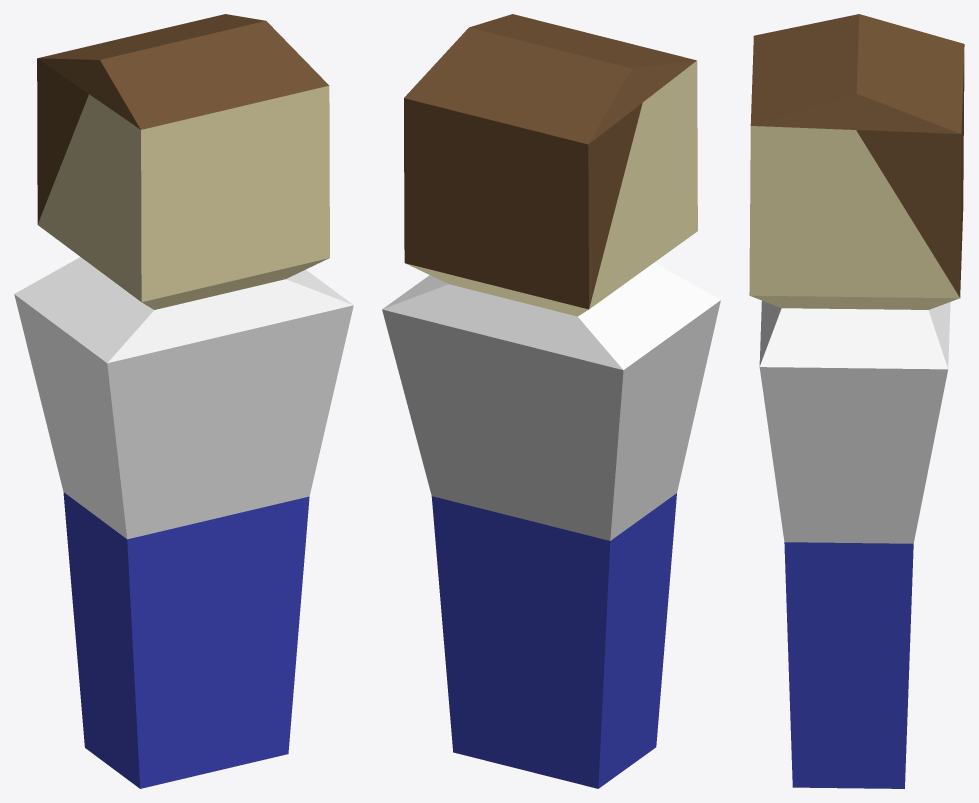
Rendered from person.glb.
3 renders of one model, left to right at view 1: azimuth 30°, elevation 25°; view 2: azimuth 150°, elevation 25°; view 3: azimuth 270°, elevation 25°, orthographic.
Visible parts, largest first — view 1: person; view 2: person; view 3: person.
Part boxes in pixels (x1,y1,x2,y2): person: (14,14,353,788); person: (382,14,720,788); person: (749,14,964,788).
Size of the model in its own units: 0.5892 by 1.61 by 0.4497.
Materials: 1 (1 with a texture image).
